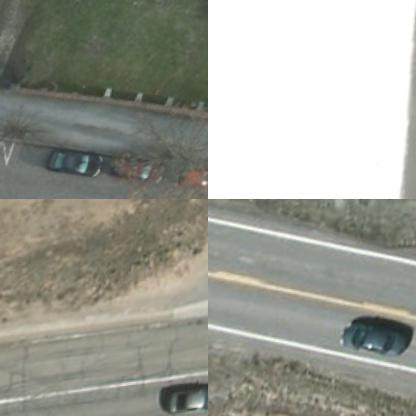car: (339, 317, 415, 365), (52, 143, 104, 176), (120, 153, 164, 183), (170, 389, 207, 415), (186, 165, 207, 198)
